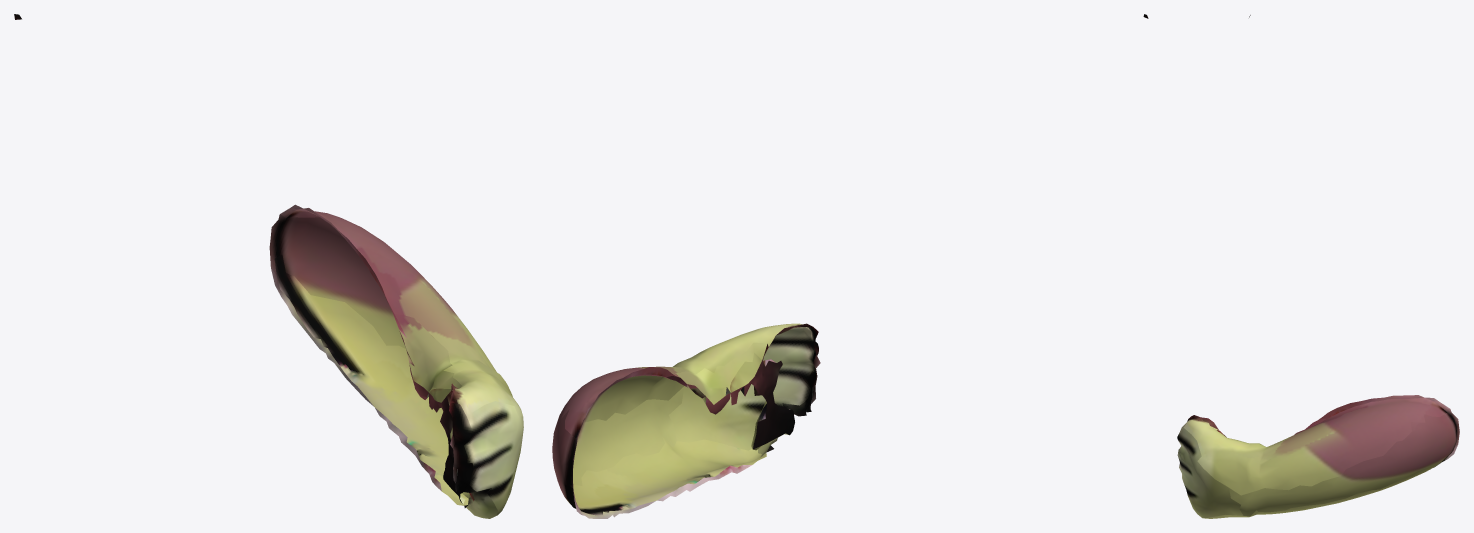
The model's file is enemy_cake_left.fbx.
3 views of the same model, side by side, from view 1: azimuth 30°, elevation 25°; view 2: azimuth 150°, elevation 25°; view 3: azimuth 270°, elevation 25° (orthographic). The views are drawn at different scales.
Visible parts, largest first — view 1: tmpc24ce_z0.ply.001; view 2: tmpc24ce_z0.ply.001; view 3: tmpc24ce_z0.ply.001.
Part boxes in pixels (box(x1,y1,x2,y2)): tmpc24ce_z0.ply.001: box(14, 14, 523, 518); tmpc24ce_z0.ply.001: box(552, 14, 1148, 518); tmpc24ce_z0.ply.001: box(1177, 15, 1459, 518).
Size of the model in its own units: 102 by 113 by 78.49.
